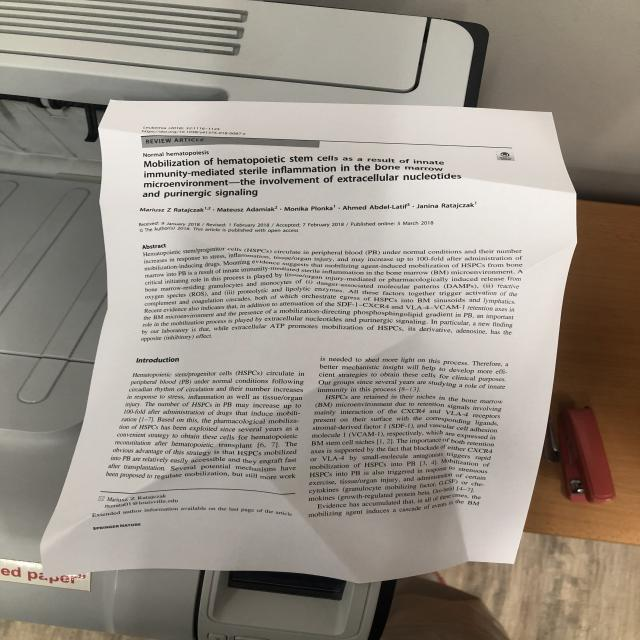kertas: (41, 97, 578, 587)
